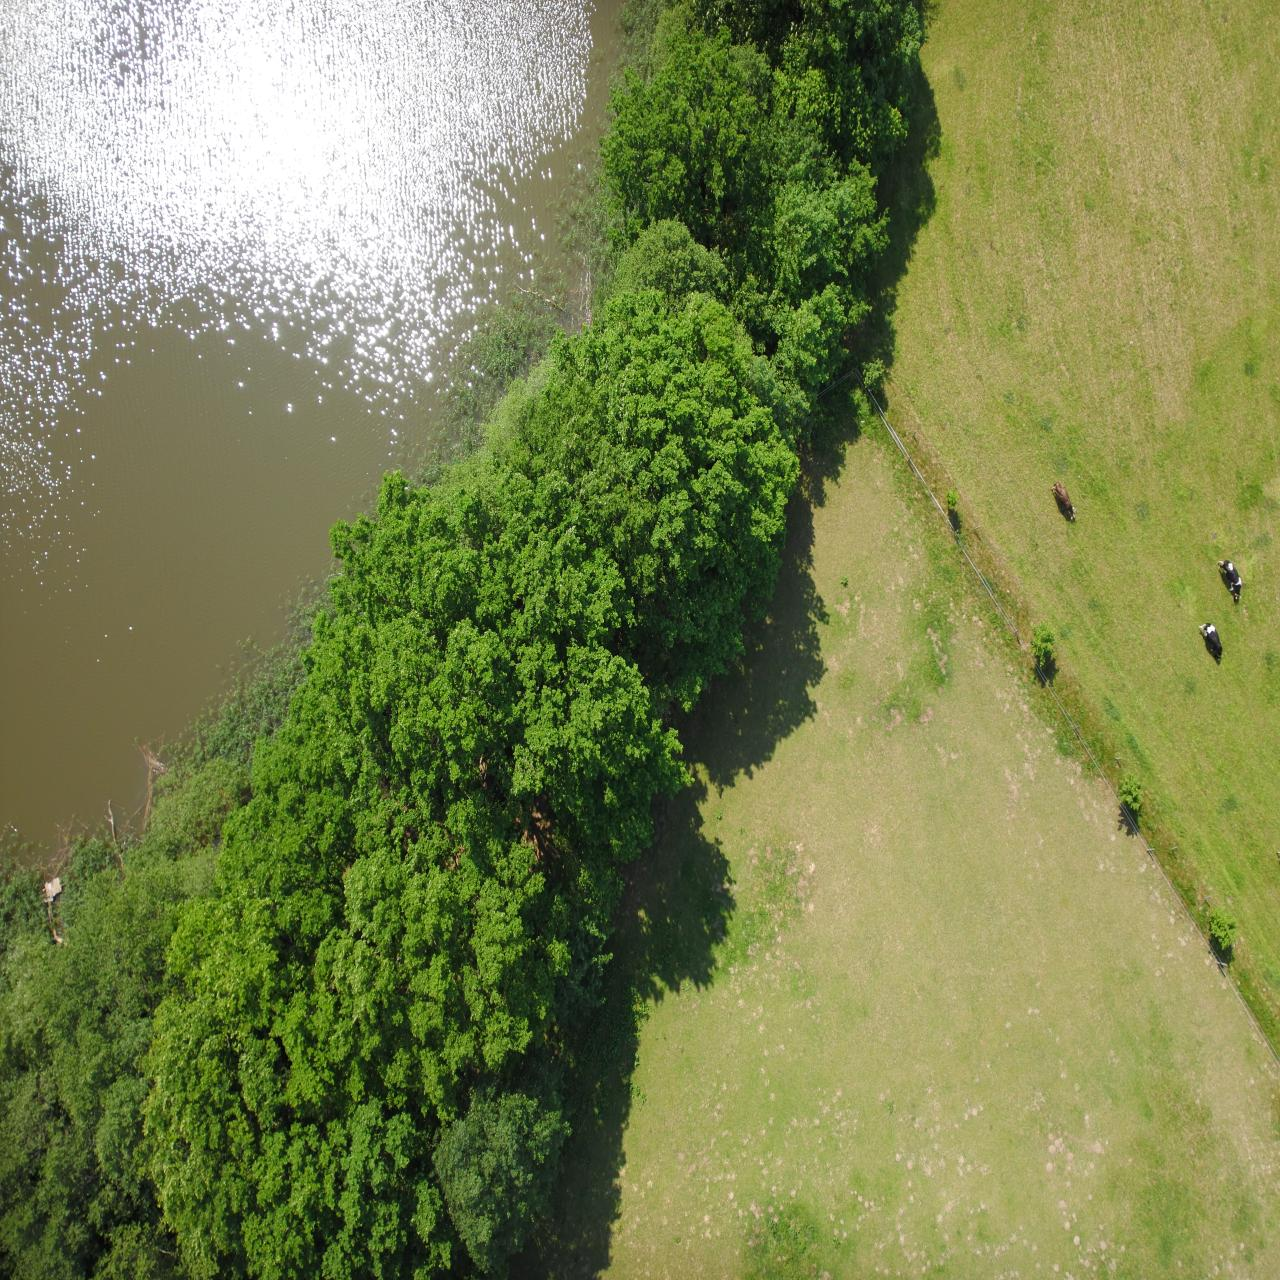cow: (204, 757, 229, 798), (38, 678, 60, 720), (57, 619, 82, 656)
